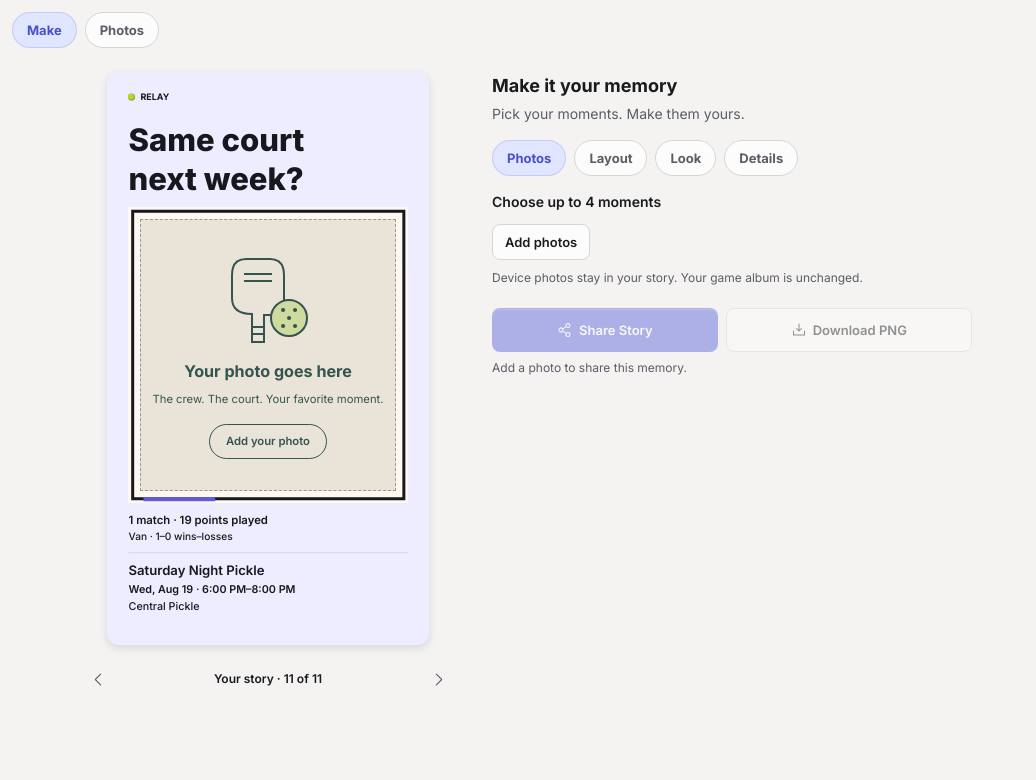
Scenario: includes reserved photos in the public album usage heading
Click the button with aria-label "Photos, 0" at (122, 30), box [85,12,159,48]
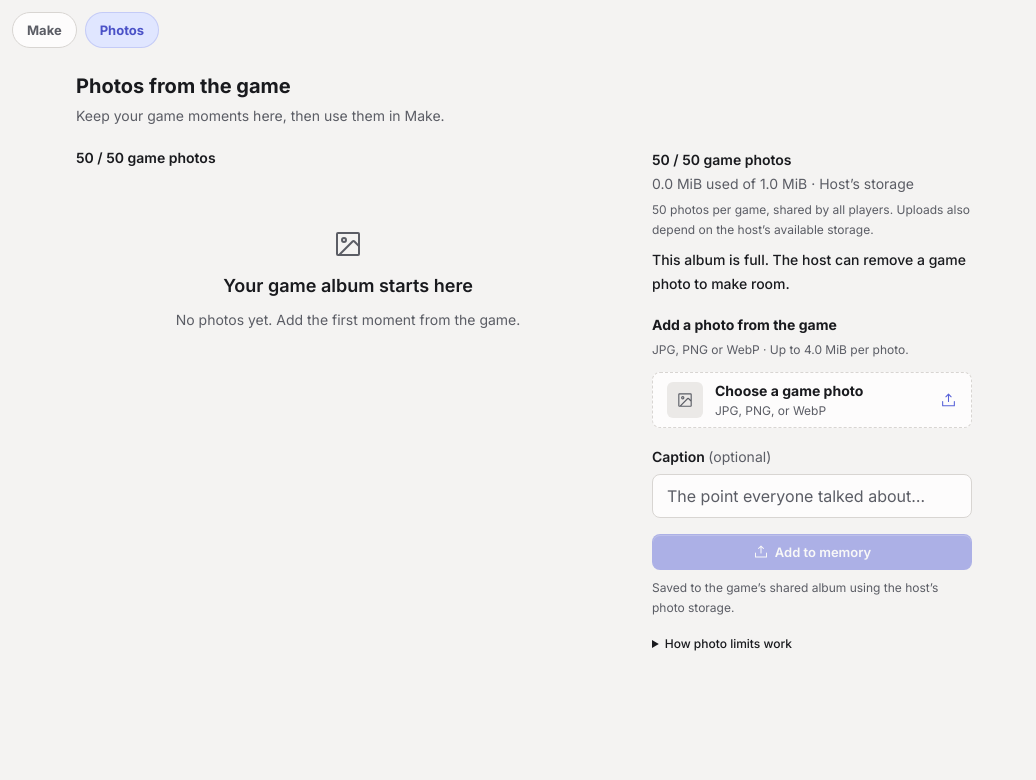
Check: the heading "50 / 50 game photos" is shown, box [76,149,216,166]
Check: the button "Add to memory" is disabled, box [652,534,972,570]
